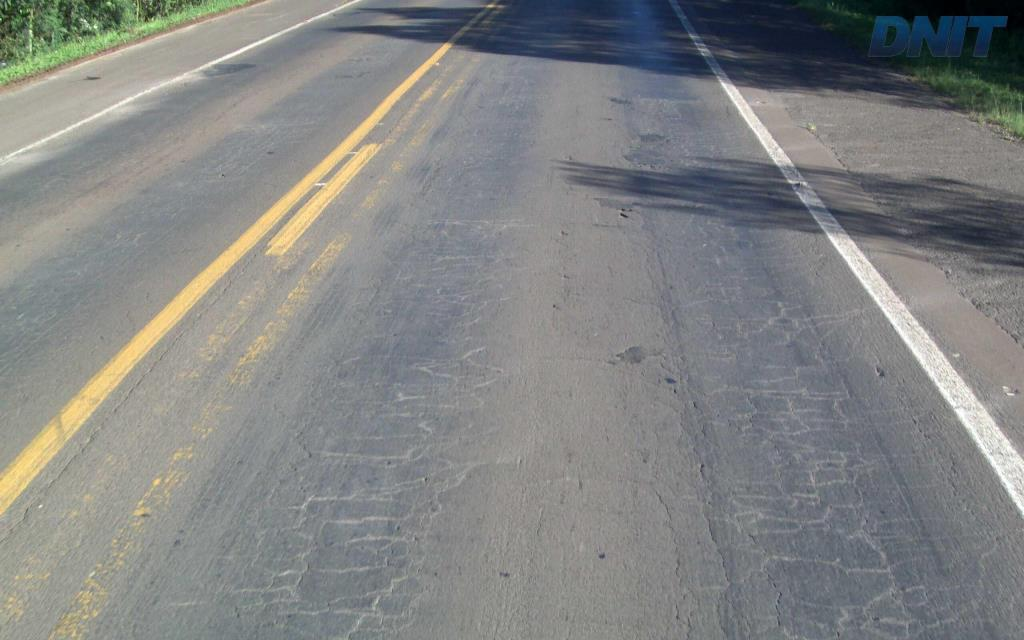pothole: (613, 203, 630, 221)
